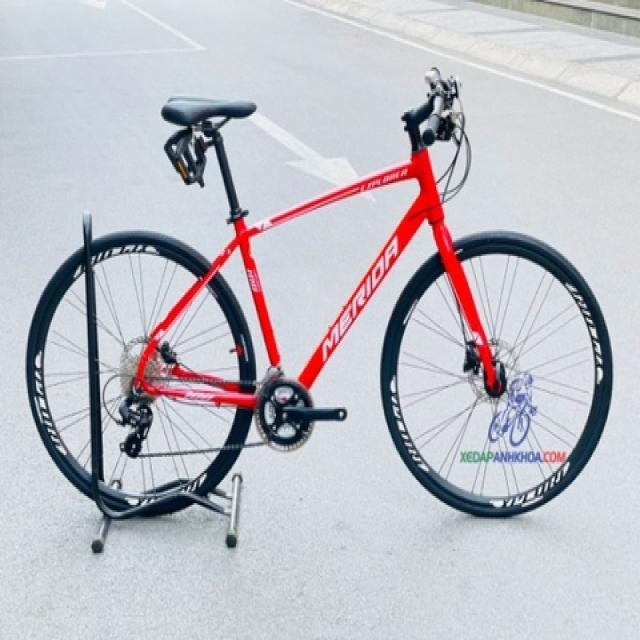bicycle: (24, 66, 613, 546)
